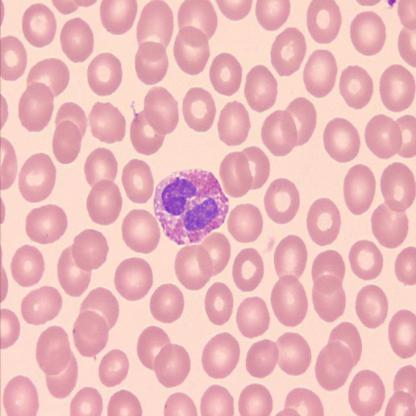Eosinophil: (153, 168, 229, 244)
